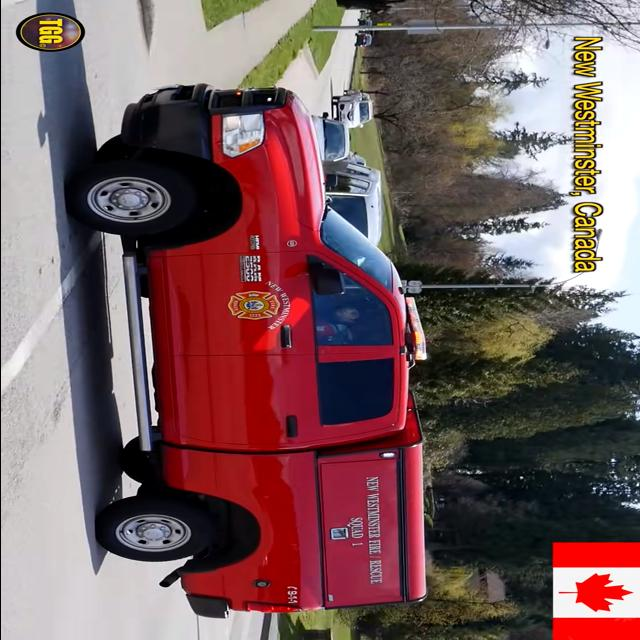emergency-vehicles: (68, 85, 438, 624)
